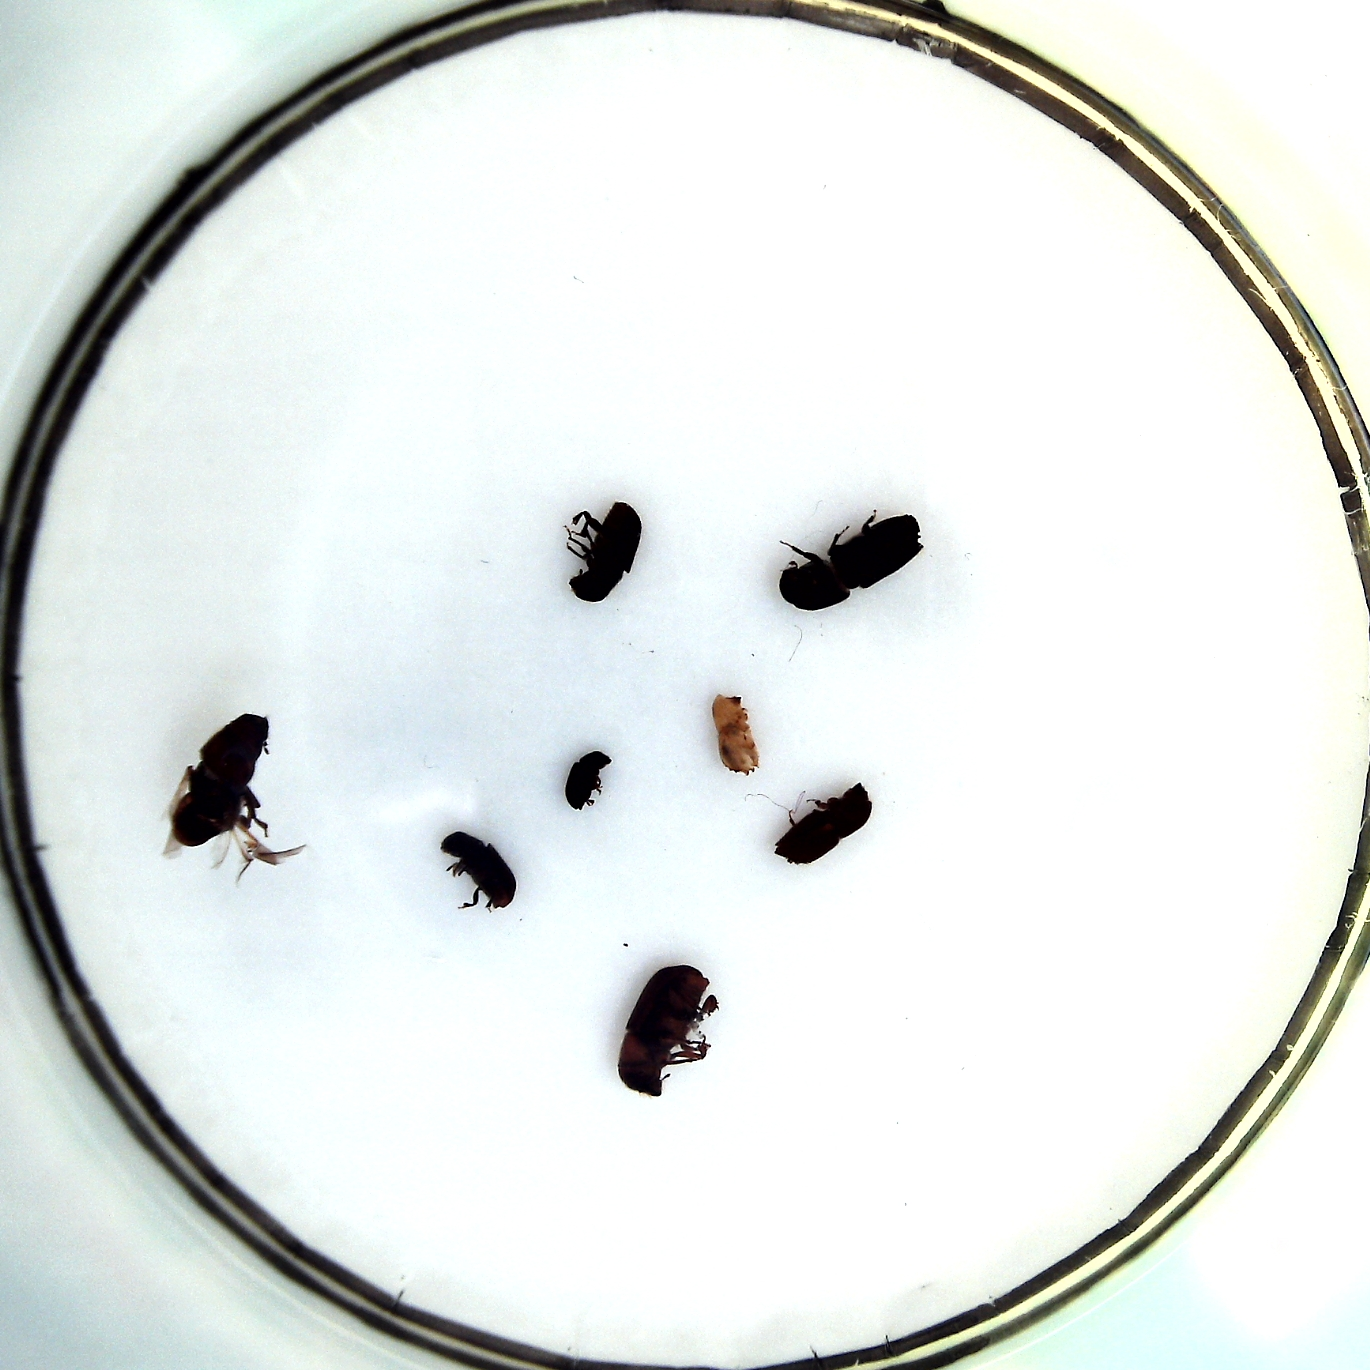Boerner: (777, 511, 923, 612)
Leconte: (617, 966, 718, 1097), (172, 714, 270, 846)
acuminatus: (565, 750, 613, 809)
armandi: (565, 501, 642, 600), (437, 832, 514, 915)
coleoptera: (711, 693, 758, 775)
linnaeus: (775, 784, 874, 864)
